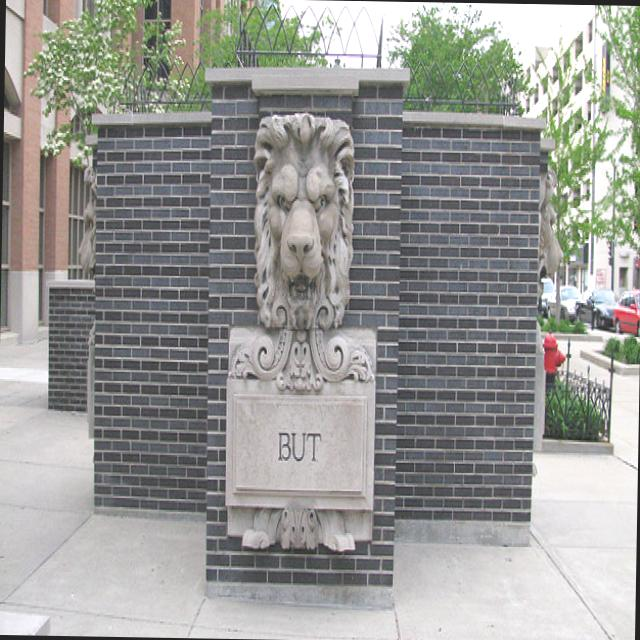Vehicle: (544, 284, 584, 324), (581, 288, 619, 328), (610, 287, 640, 335), (540, 278, 554, 318)
